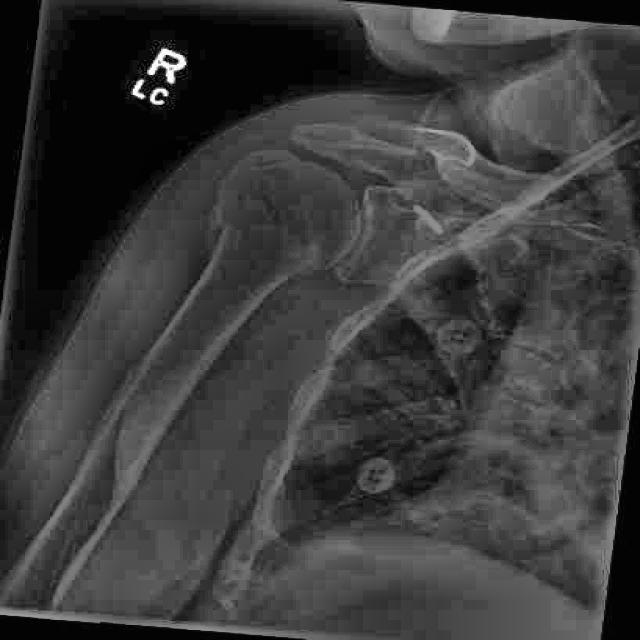shoulder fracture: (171, 177, 279, 264)
